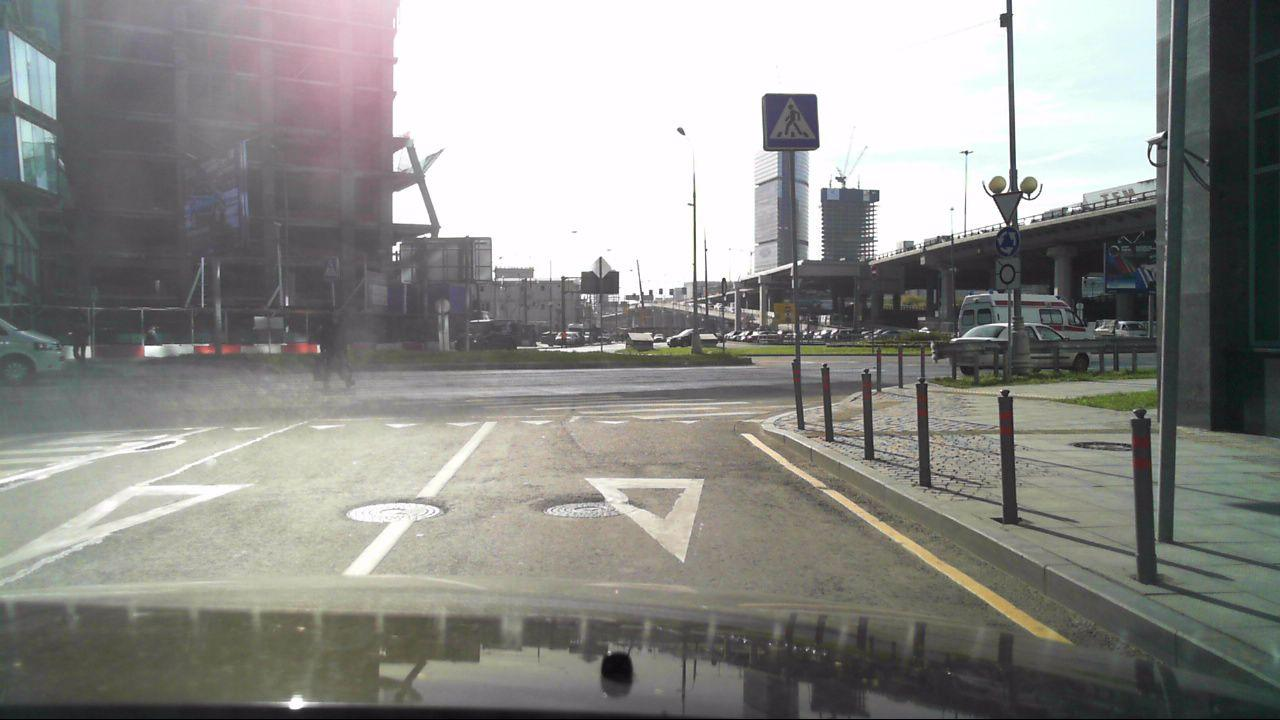2_4: (991, 192, 1023, 223)
4_3: (994, 224, 1024, 258)
5_19_1: (761, 91, 821, 150)
5_19_2: (319, 256, 340, 279)
8_13: (993, 257, 1023, 291)
